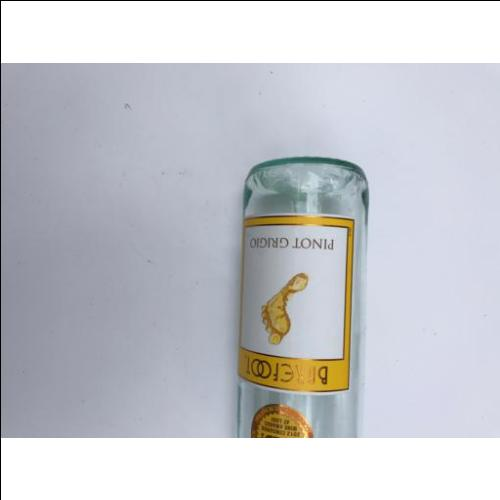glass: (241, 162, 362, 435)
